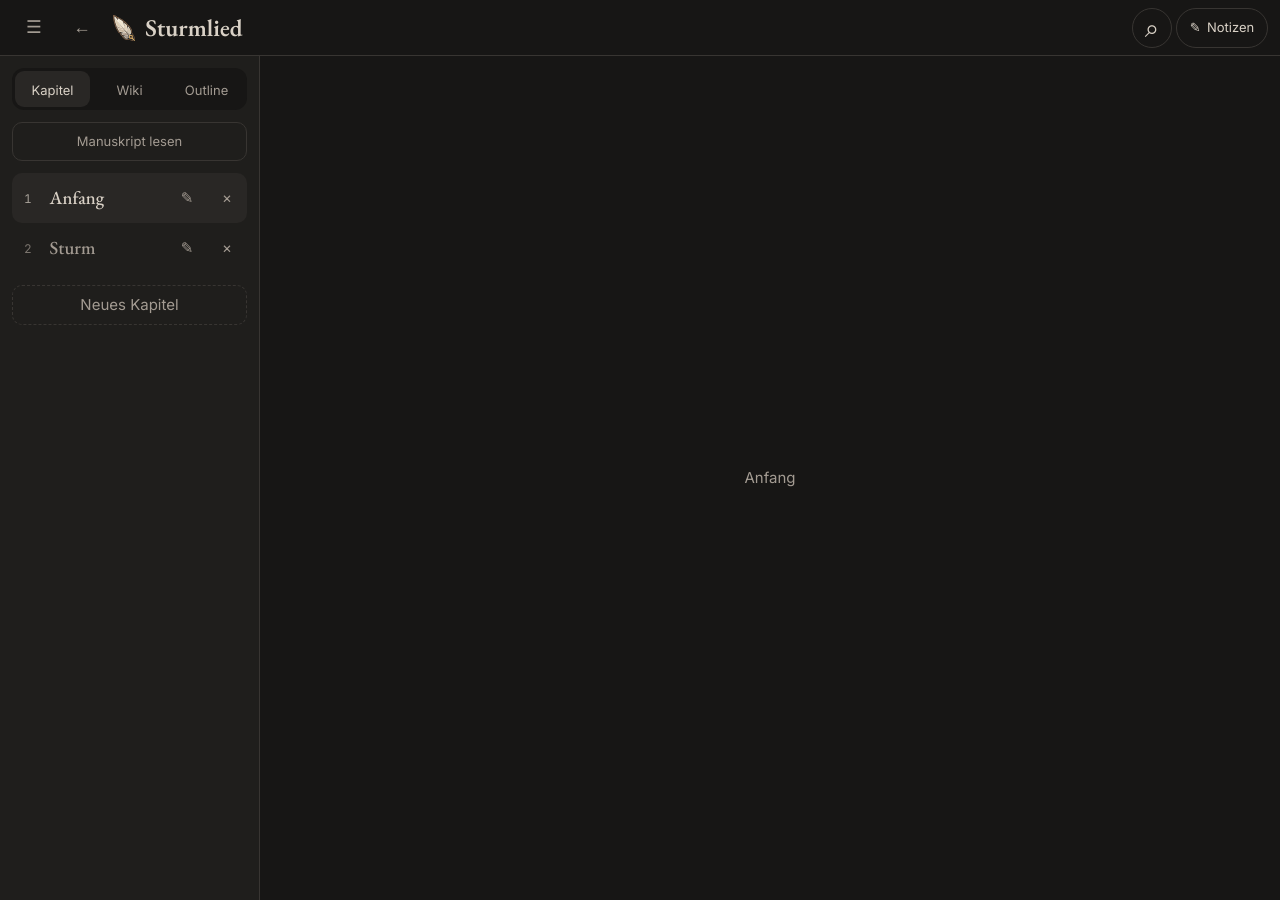
Scenario: rename and delete update the list; deleting the open chapter selects the next
Click the button named "Kapitel umbenennen" at [187, 198], box [167, 178, 207, 218]
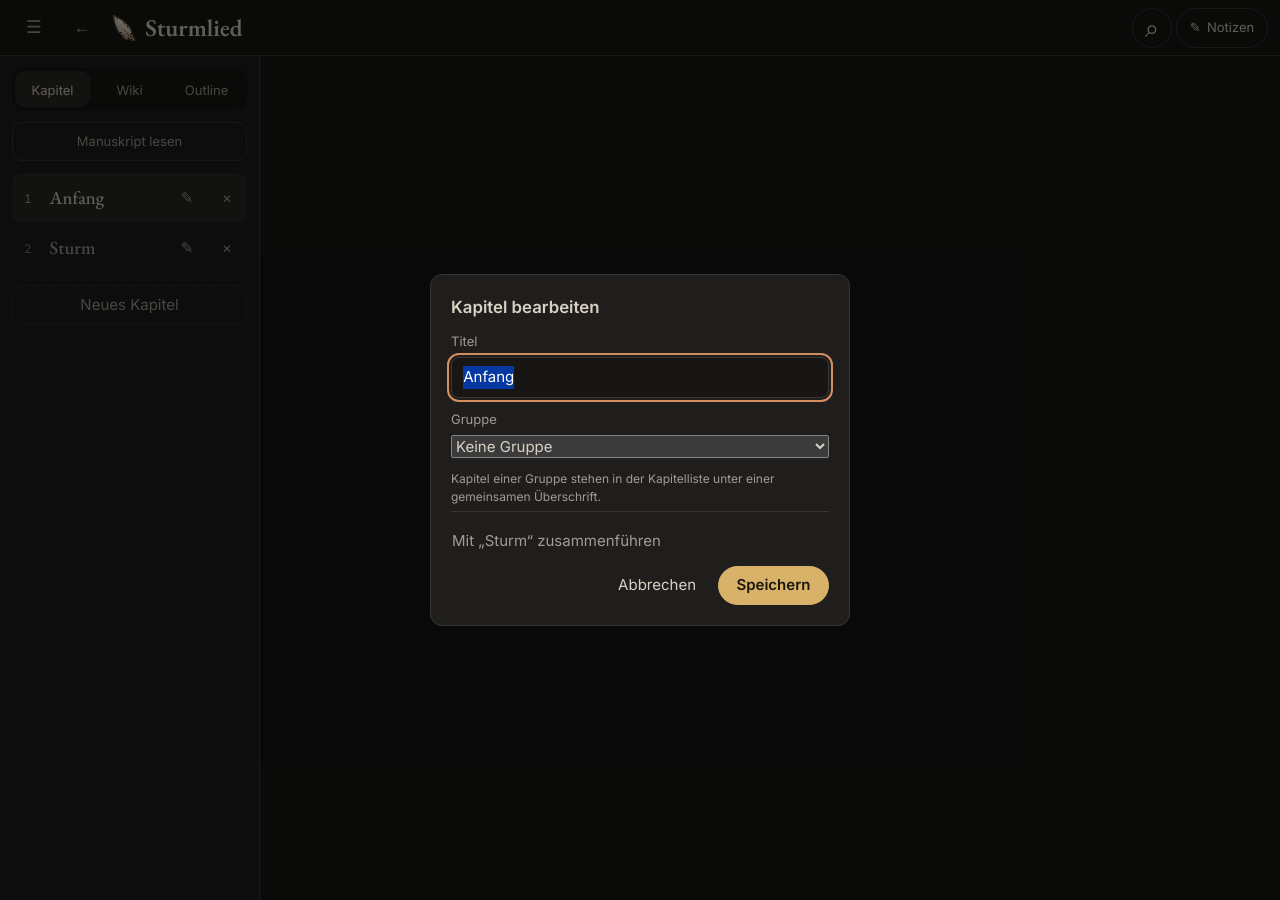
Replace the text in the field labelled "Titel" with "Prolog" at [640, 377], box [451, 357, 829, 398]
Click the button "Speichern" at [773, 586], box [718, 566, 829, 605]
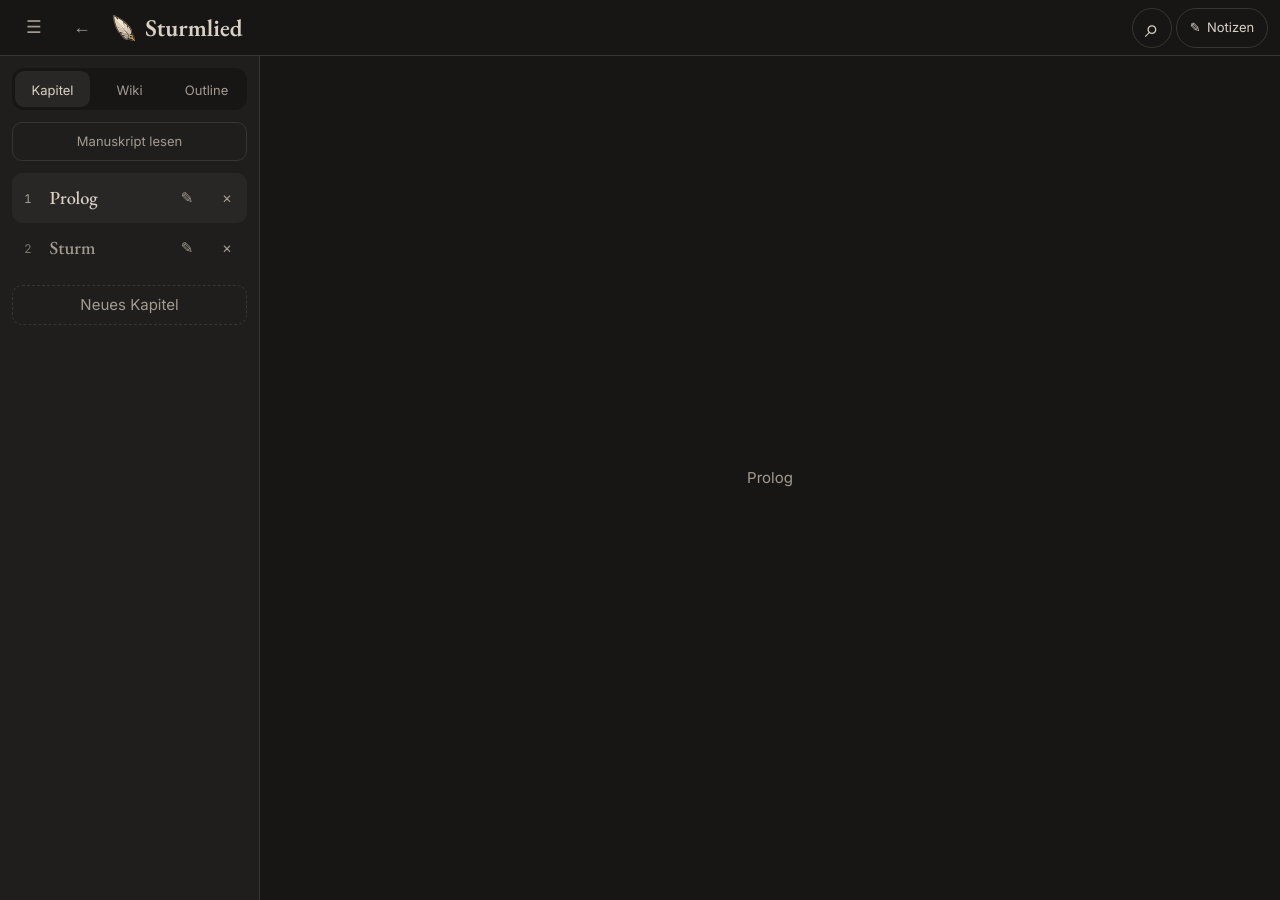
Click the button named "Kapitel löschen" at [227, 198], box [207, 178, 247, 218]
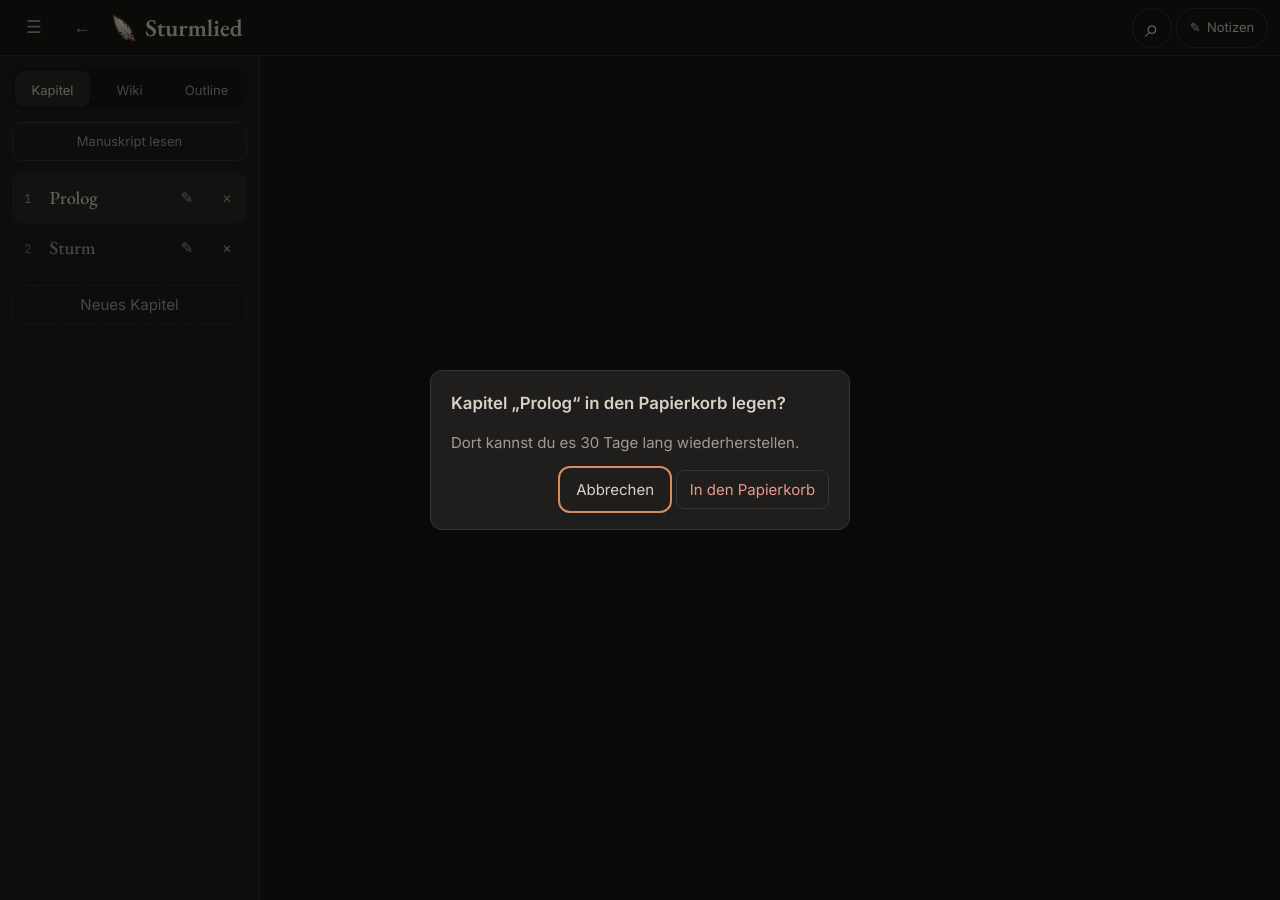
Check: the heading "Kapitel „Prolog“ in den Papierkorb legen?" is shown, box [451, 391, 829, 416]
Check: the text "Dort kannst du es 30 Tage lang wiederherstellen." is shown, box [451, 432, 829, 454]
Click the button "In den Papierkorb" at [752, 490], box [676, 470, 829, 509]
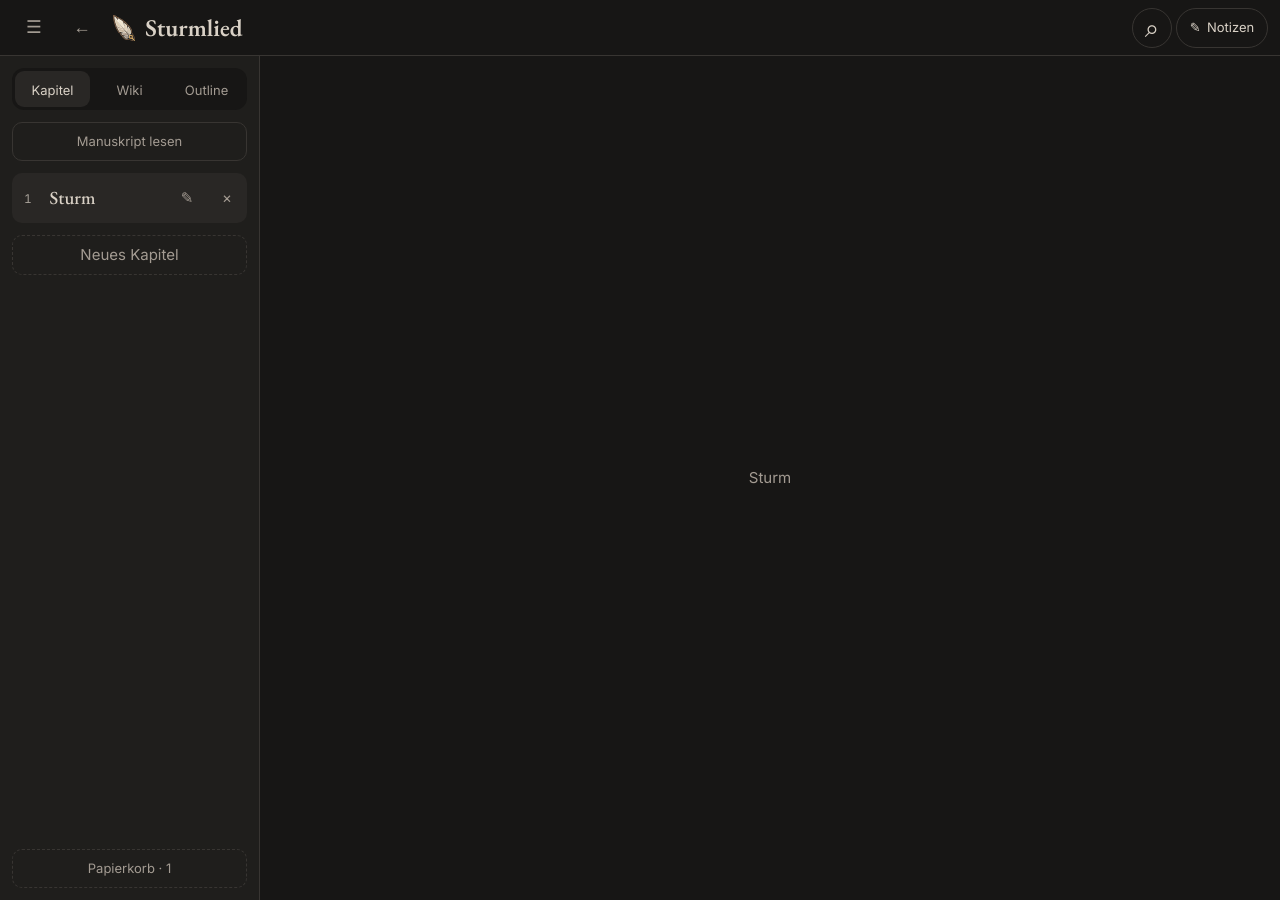
Check: the link "Prolog" is gone
Click the button named "Kapitel löschen" at [227, 198], box [207, 178, 247, 218]
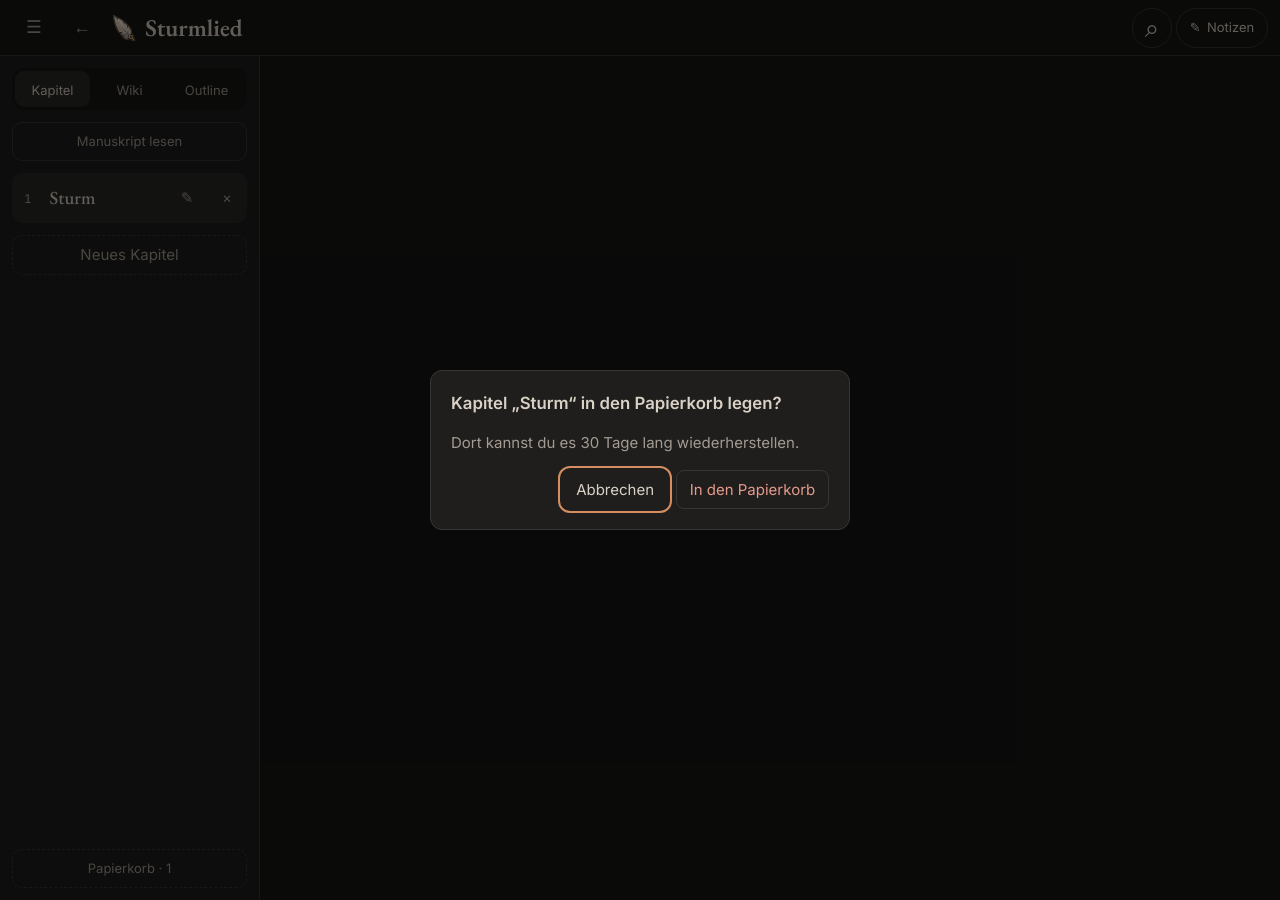
Click the button "In den Papierkorb" at [752, 490], box [676, 470, 829, 509]
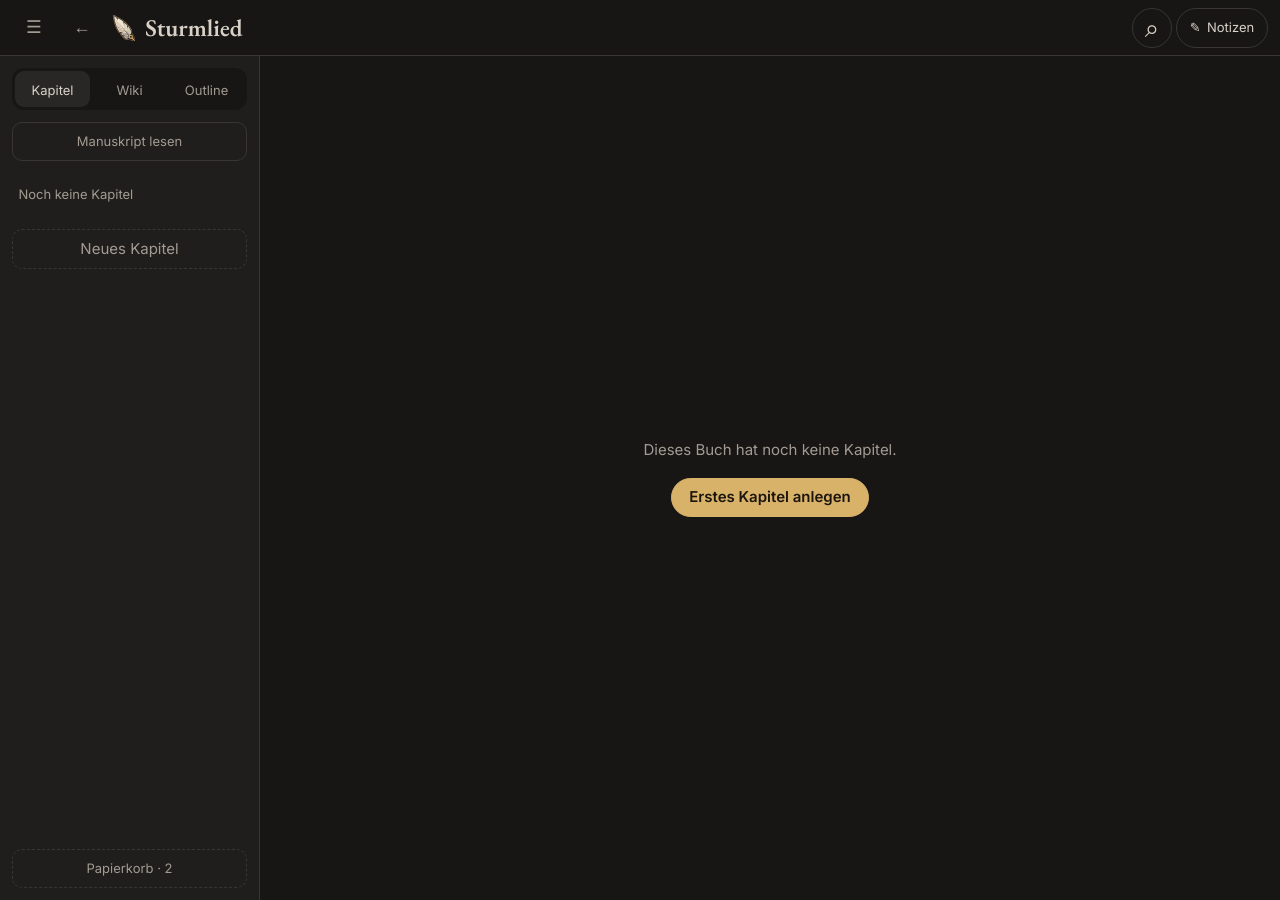
Check: the text "Noch keine Kapitel" is shown, box [18, 186, 133, 202]
